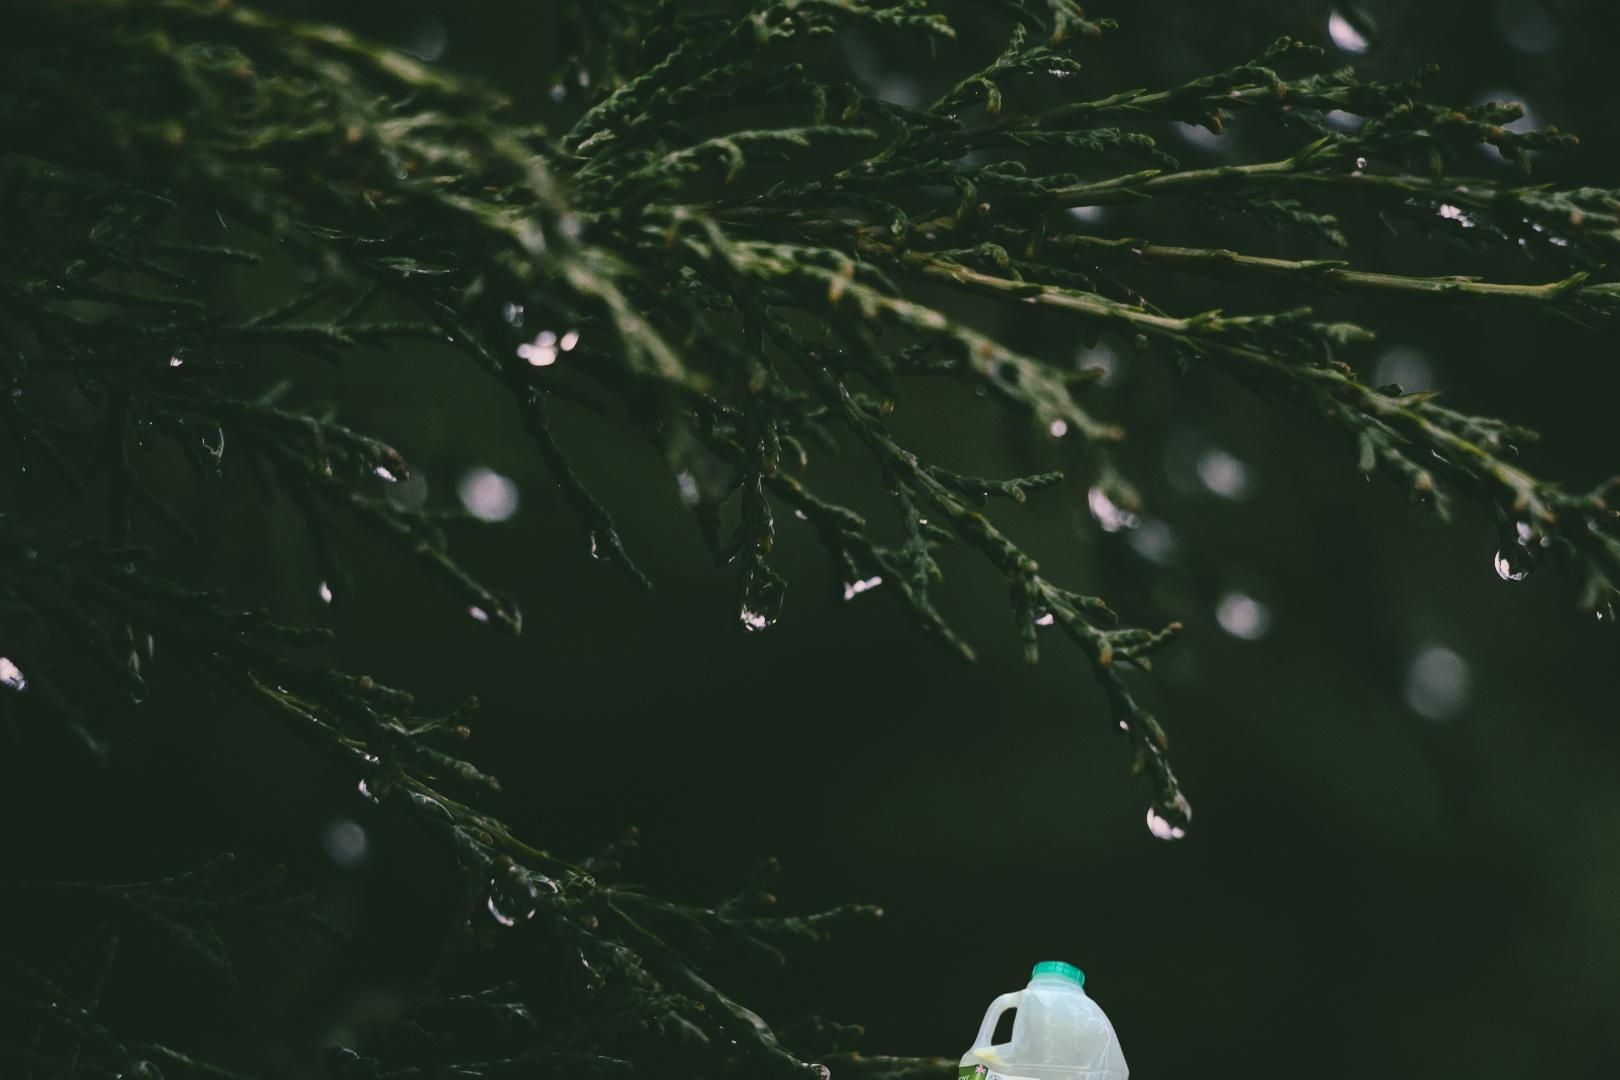plastic-bottles: (951, 642, 1291, 1080)
